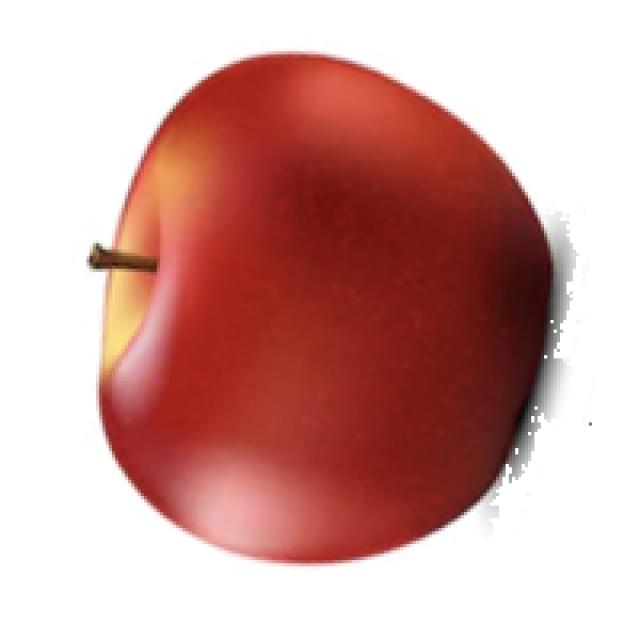apple: (83, 45, 589, 573)
